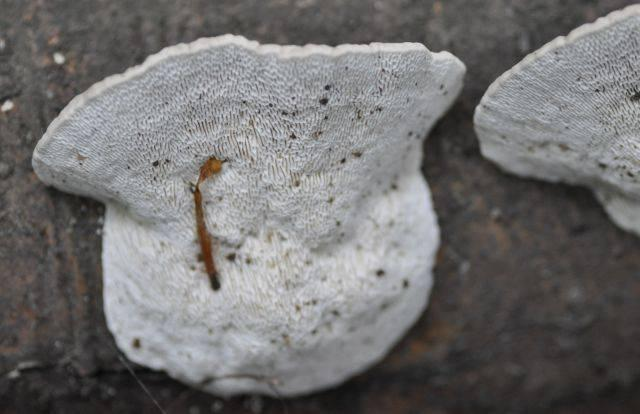poisonous_mushroom: (30, 31, 467, 400), (470, 0, 640, 245)
